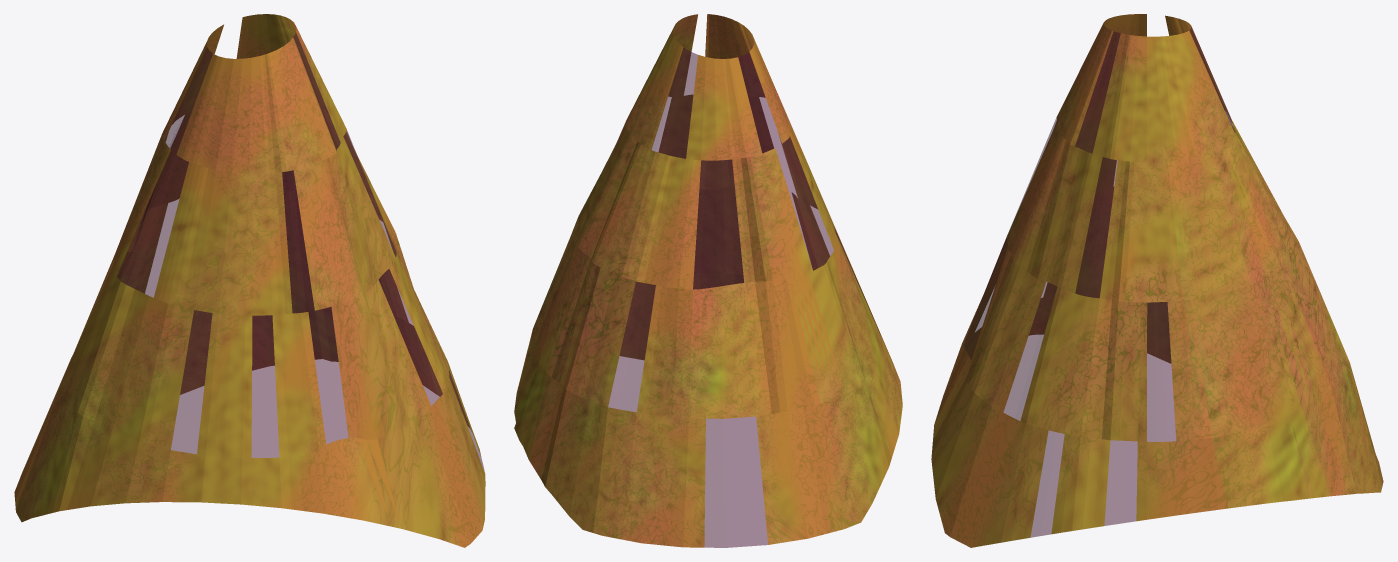
The model's file is model-shroud-lucent#1.gltf.
3 renders of one model, left to right at view 1: azimuth 30°, elevation 25°; view 2: azimuth 150°, elevation 25°; view 3: azimuth 270°, elevation 25°, orthographic. The views are drawn at different scales.
Parts seen in each view (by area): view 1: Shroud-Cone; view 2: Shroud-Cone; view 3: Shroud-Cone.
Part boxes in pixels (bbox=[...]): Shroud-Cone: bbox=[14, 14, 485, 547]; Shroud-Cone: bbox=[514, 14, 902, 547]; Shroud-Cone: bbox=[931, 14, 1383, 547].
Bounding box in the file's own units: 3.08 × 3.56 × 3.15.
2 materials, 1 textured.
